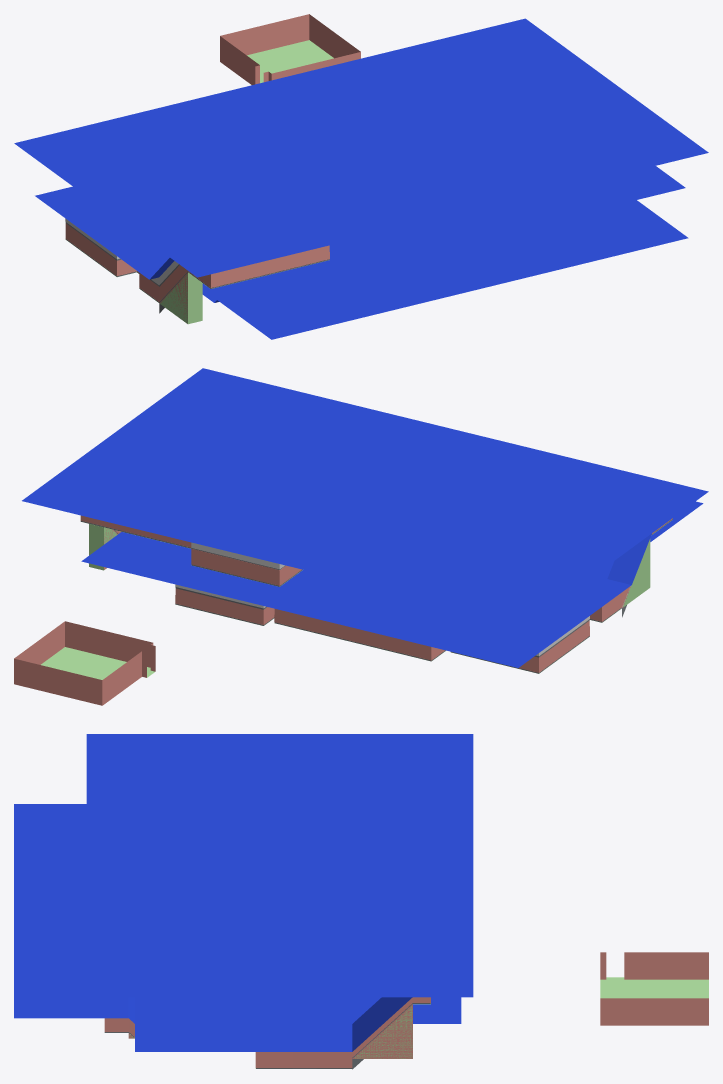
File: level_one.fbx
3 renders of one model, top to bottom at view 1: azimuth 30°, elevation 25°; view 2: azimuth 150°, elevation 25°; view 3: azimuth 270°, elevation 25°, orthographic. The views are drawn at different scales.
Parts seen in each view (by area): view 1: cealing_top, cealing, room, floor-col, stairs_02; view 2: cealing_top, cealing, floor-col, room, stairs_02, stairs_05; view 3: cealing_top, cealing, room, floor-col, stairs_05.
Boxes of the visible parts, x1,y1,x2,y2 form: cealing_top: (14, 18, 708, 277); cealing: (35, 166, 688, 339); room: (220, 14, 360, 84); floor-col: (65, 218, 329, 319); stairs_02: (160, 272, 202, 324); cealing_top: (22, 368, 708, 624); cealing: (81, 501, 703, 667); floor-col: (80, 515, 672, 673); room: (14, 621, 155, 705); stairs_02: (623, 539, 650, 606); stairs_05: (89, 524, 117, 570); cealing_top: (86, 734, 473, 997); cealing: (14, 804, 461, 1051); room: (600, 952, 708, 1025); floor-col: (104, 997, 430, 1069); stairs_05: (355, 1006, 412, 1058).
Size of the model in its own units: 51.5 by 8.5 by 57.5.
